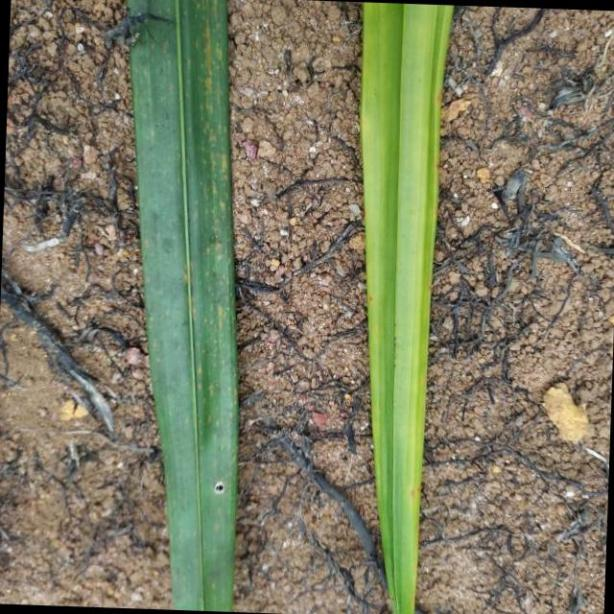nitrogen: (361, 0, 456, 614)
